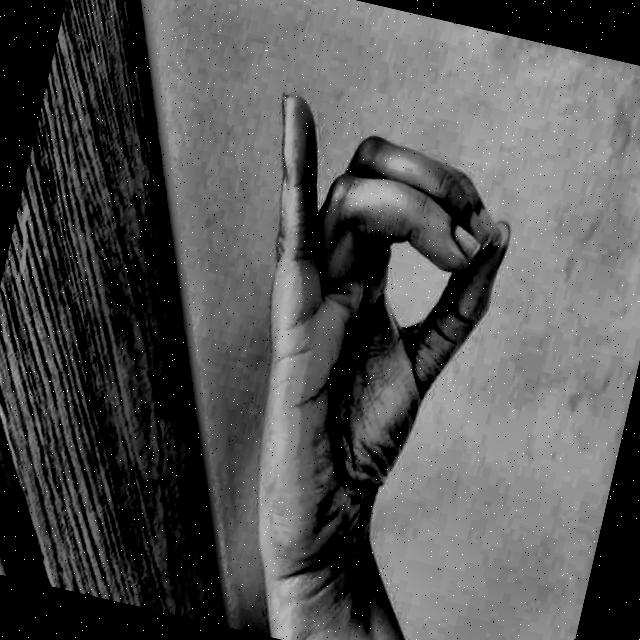Ou: (152, 41, 558, 609)
